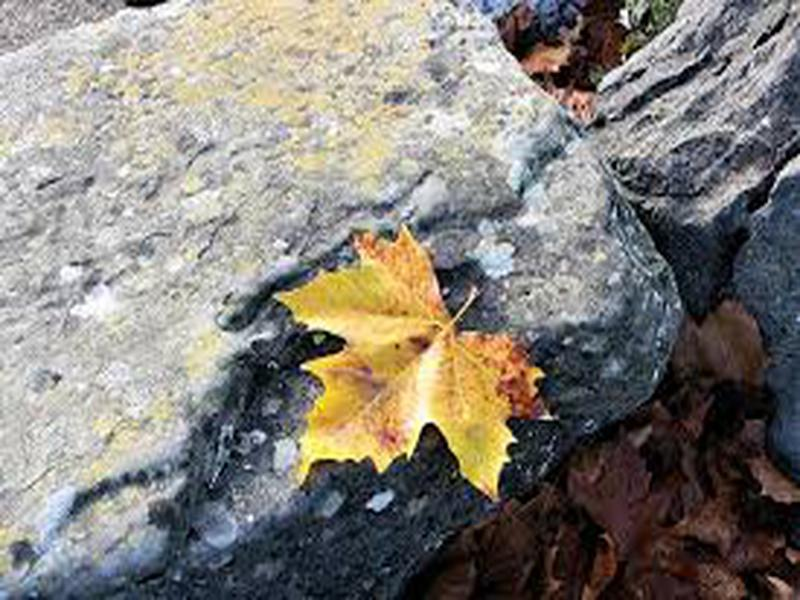leaf: (265, 221, 559, 507)
